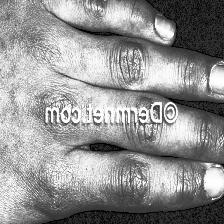Unclassified: (112, 48, 150, 76), (119, 166, 150, 194), (83, 0, 105, 13), (131, 128, 159, 138)
